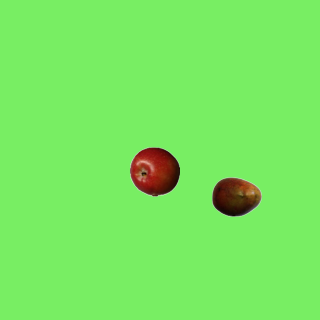Apple Braeburn: (129, 146, 179, 196)
Mango Red: (211, 171, 261, 221)
